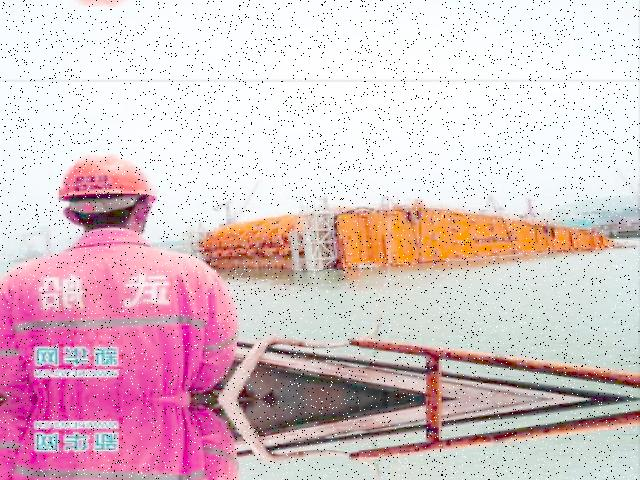Helmet: (54, 148, 164, 215)
